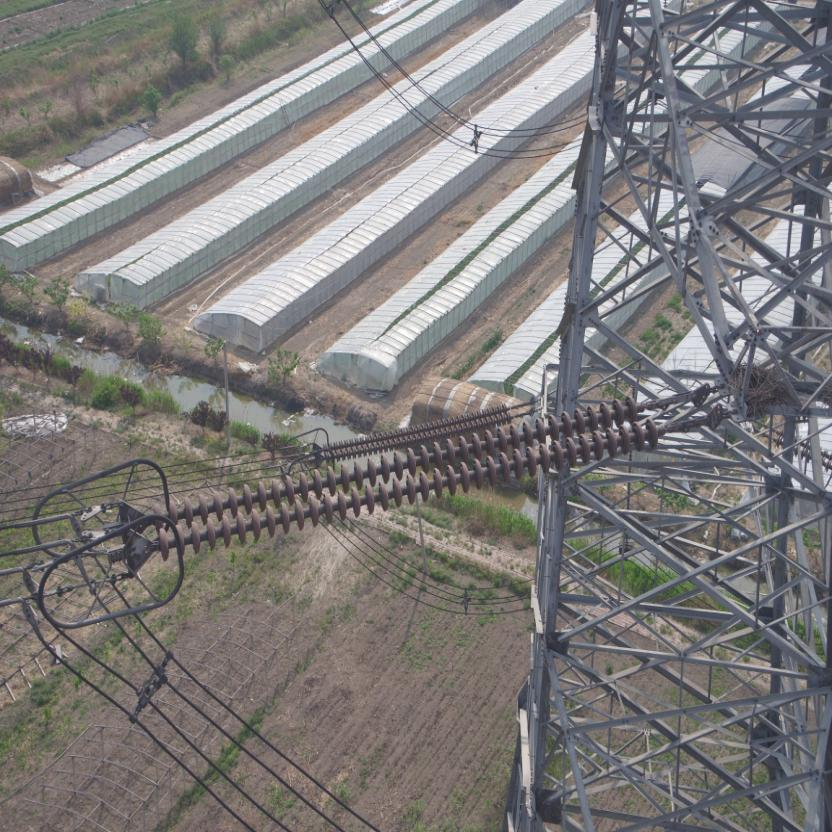insulator: (138, 392, 678, 564)
